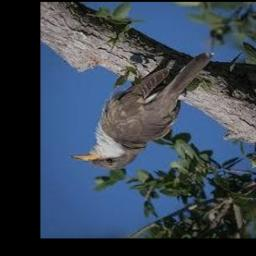Cuckoo: (70, 52, 214, 169)
